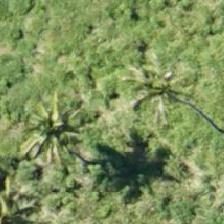coconut_tree: (8, 77, 98, 167), (108, 45, 198, 135), (0, 173, 48, 223)
